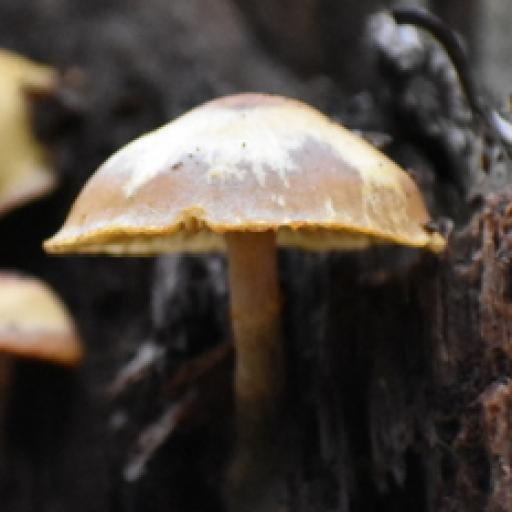mushroom: (35, 66, 467, 387)
